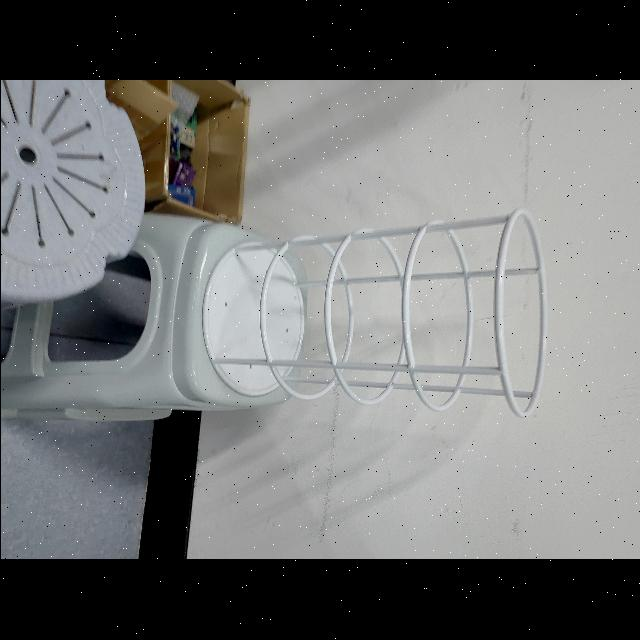S: (197, 206, 549, 420)
